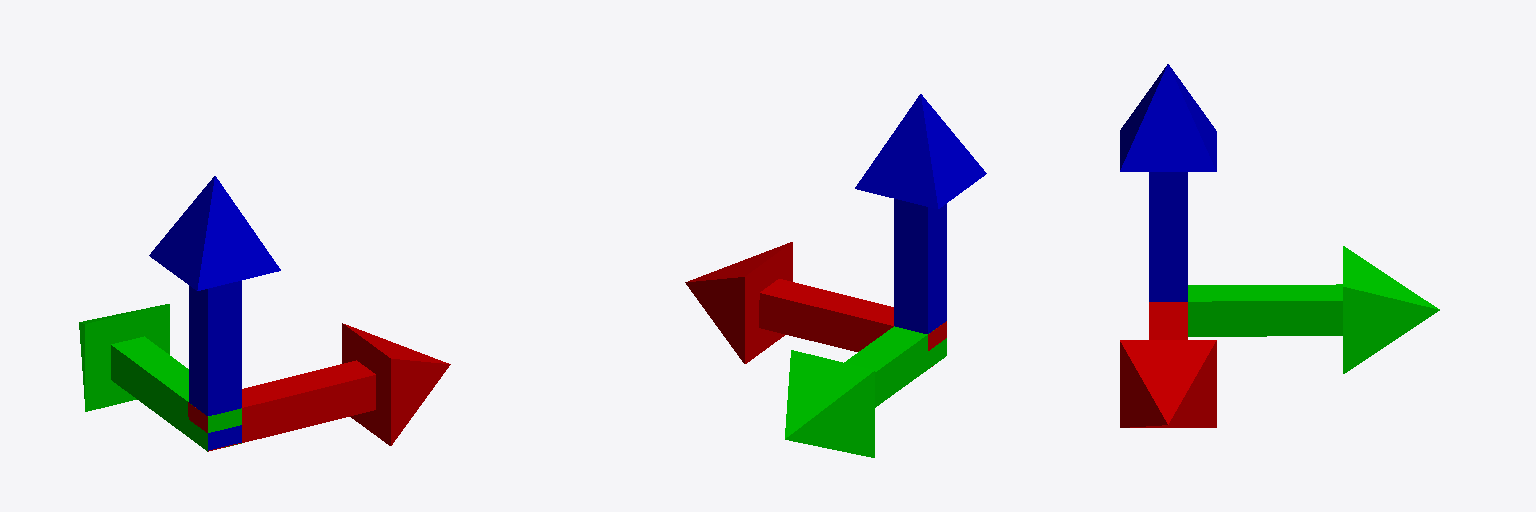
The model's file is arrowX.obj.
The picture shows the model from 3 angles: view 1: azimuth 30°, elevation 25°; view 2: azimuth 150°, elevation 25°; view 3: azimuth 270°, elevation 25°; orthographic projection.
Parts seen in each view (by area): view 1: Cube.001, Cube.003, Cube.000_Cube.004; view 2: Cube.001, Cube.003, Cube.000_Cube.004; view 3: Cube.000_Cube.004, Cube.001, Cube.003.
Part boxes in pixels (bbox=[...]): Cube.001: bbox=[149, 176, 280, 450]; Cube.003: bbox=[188, 323, 450, 451]; Cube.000_Cube.004: bbox=[79, 304, 241, 451]; Cube.001: bbox=[855, 94, 986, 333]; Cube.003: bbox=[685, 242, 946, 366]; Cube.000_Cube.004: bbox=[785, 326, 946, 457]; Cube.000_Cube.004: bbox=[1188, 246, 1439, 373]; Cube.001: bbox=[1120, 64, 1216, 301]; Cube.003: bbox=[1120, 302, 1216, 427].
Size of the model in its own units: 3.3 by 3.3 by 3.3.